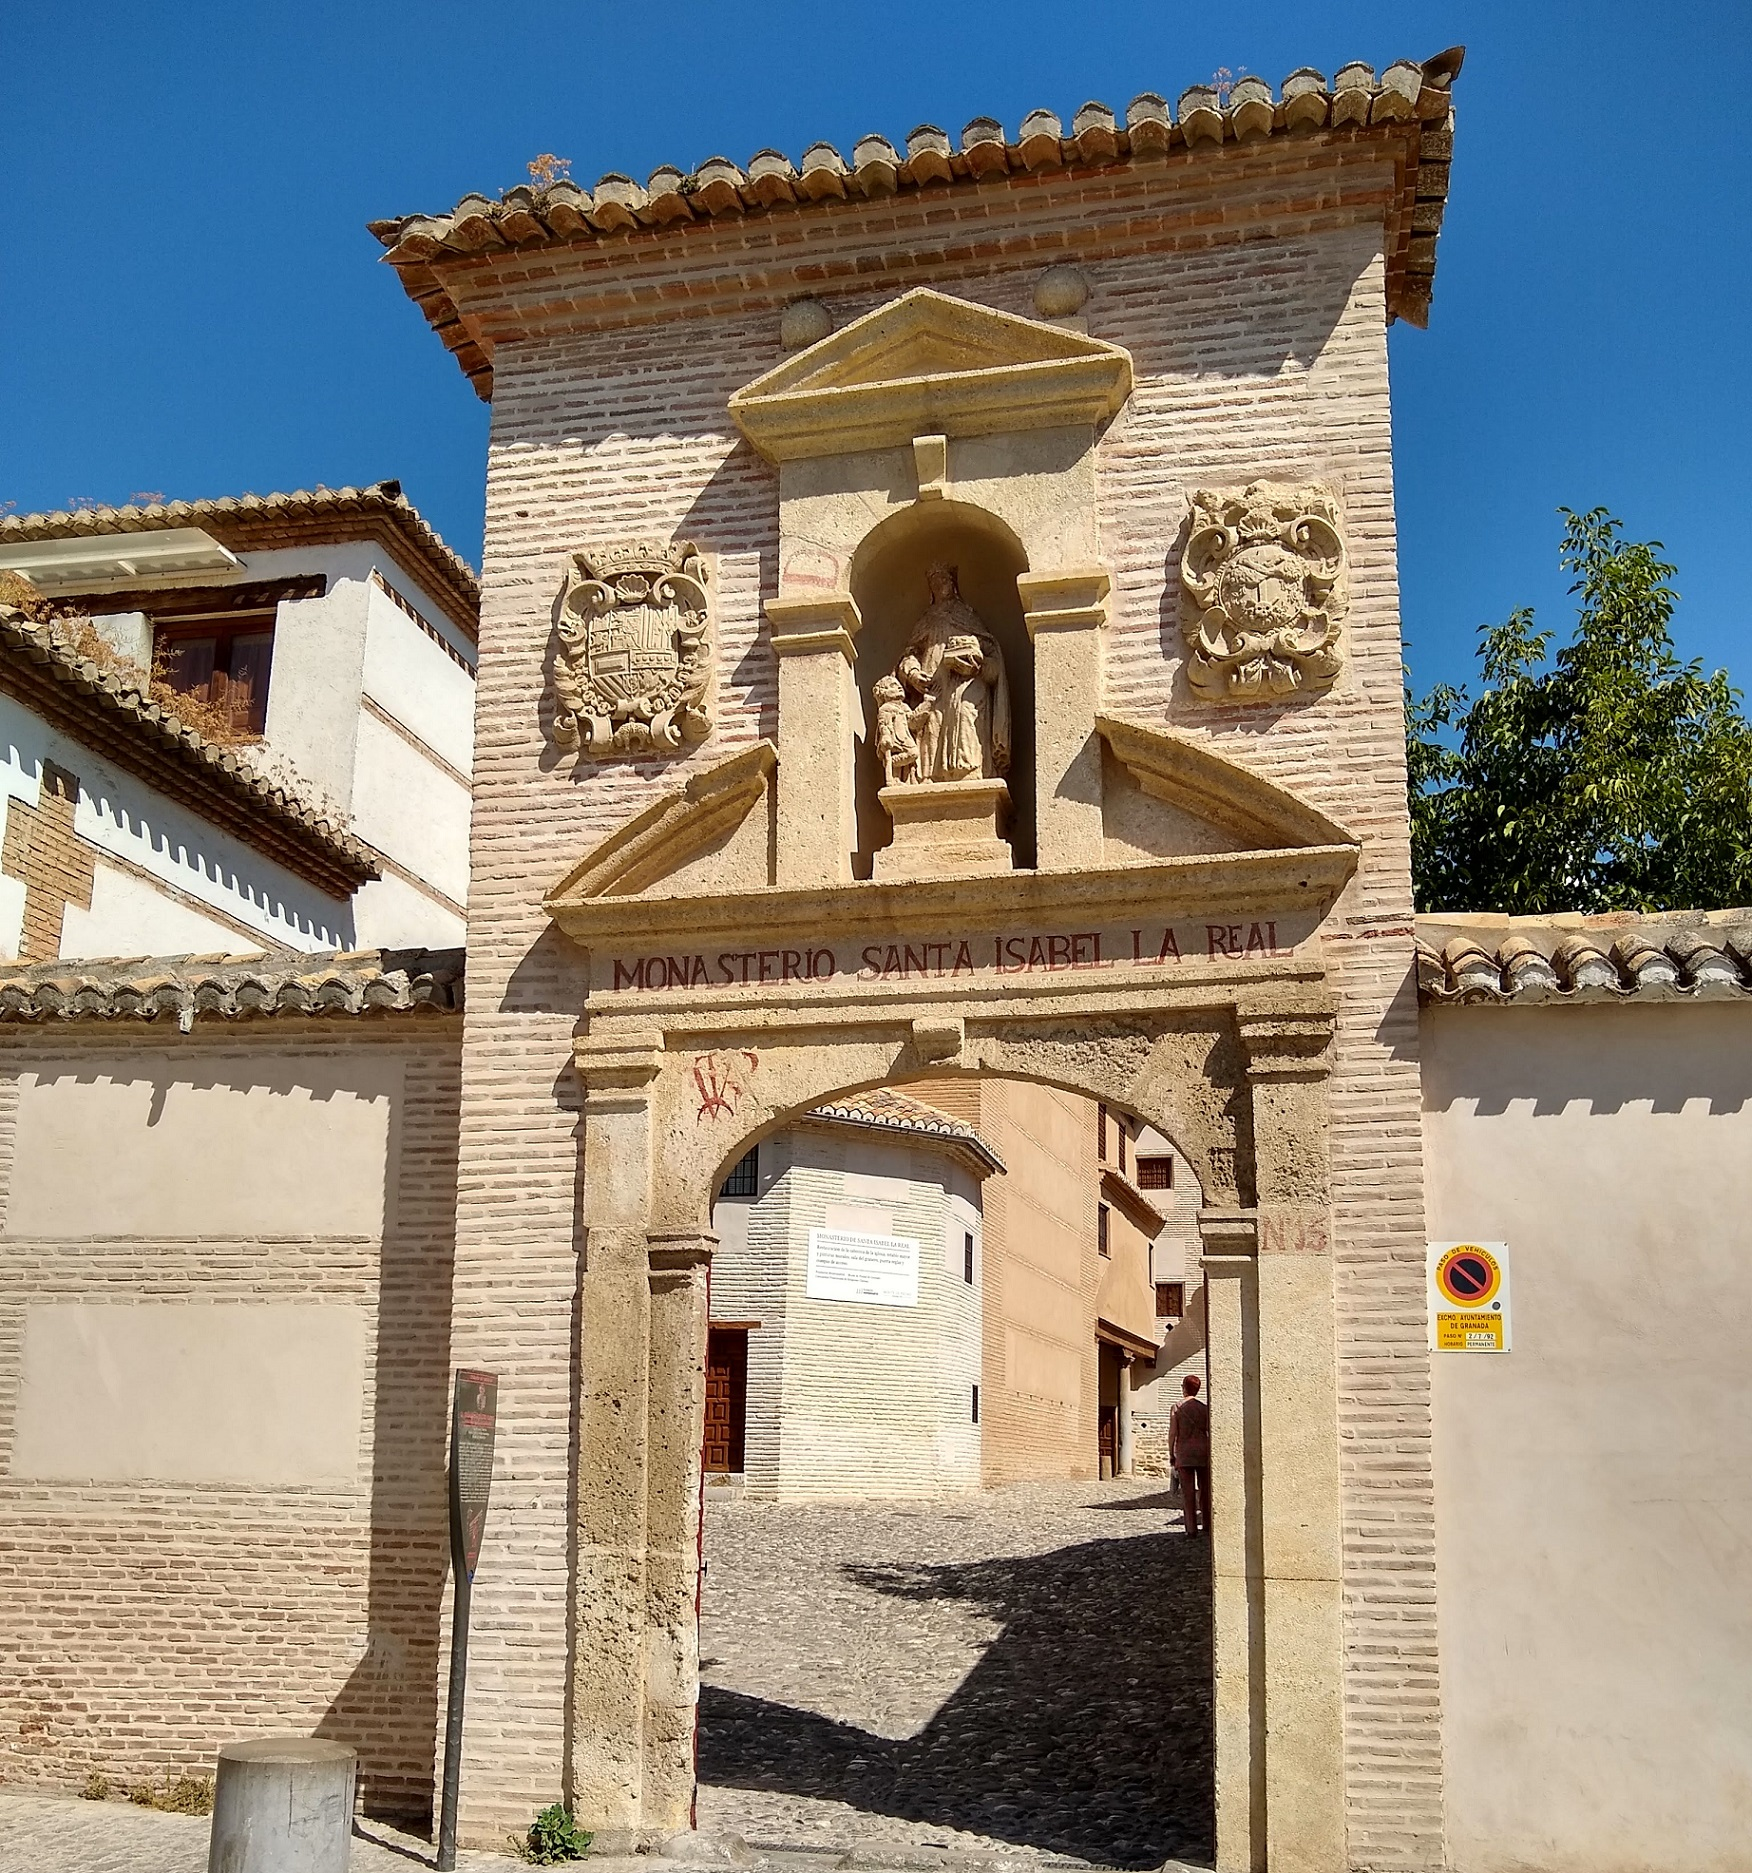arco-medio-punto: (845, 490, 1037, 620)
fronton: (706, 285, 1151, 435)
fronton-partido: (529, 696, 1358, 950)
